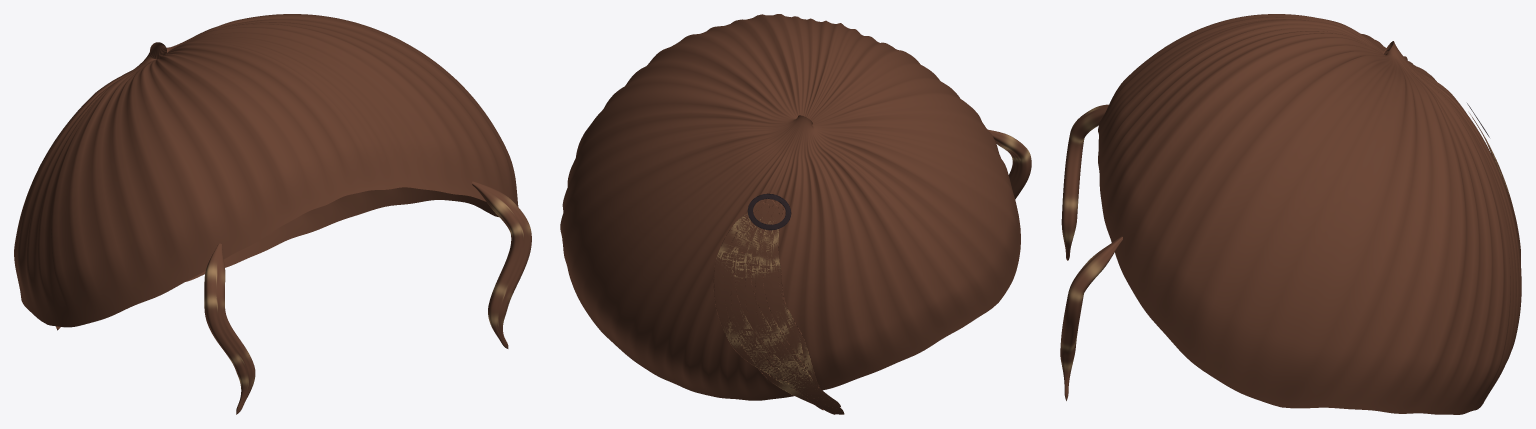
Rendered from Highlights-e7682a1e78ab252-hair.glb.
3 renders of one model, left to right at view 1: azimuth 30°, elevation 25°; view 2: azimuth 150°, elevation 25°; view 3: azimuth 270°, elevation 25°, orthographic. The views are drawn at different scales.
Parts seen in each view (by area): view 1: 226 hair / Hair / crisp pulled roots220, 226 hair / Hair / sculpted front locks222; view 2: 226 hair / Hair / crisp pulled roots220, 226 hair / Hair / chestnut212 0, 226 hair / Hair / chestnut212 1, 226 hair / Hair / chestnut212 2, 226 hair / Hair / sculpted front locks222, 226 hair / Hair / fitted tie214; view 3: 226 hair / Hair / crisp pulled roots220, 226 hair / Hair / sculpted front locks222.
Part boxes in pixels (x1=…): 226 hair / Hair / crisp pulled roots220: x1=14, y1=14, x2=518, y2=327; 226 hair / Hair / sculpted front locks222: x1=204, y1=181, x2=531, y2=414; 226 hair / Hair / crisp pulled roots220: x1=560, y1=14, x2=1020, y2=400; 226 hair / Hair / chestnut212 0: x1=713, y1=201, x2=835, y2=414; 226 hair / Hair / chestnut212 1: x1=724, y1=202, x2=840, y2=410; 226 hair / Hair / chestnut212 2: x1=730, y1=199, x2=844, y2=414; 226 hair / Hair / sculpted front locks222: x1=988, y1=129, x2=1031, y2=199; 226 hair / Hair / fitted tie214: x1=747, y1=193, x2=791, y2=230; 226 hair / Hair / crisp pulled roots220: x1=1098, y1=14, x2=1521, y2=414; 226 hair / Hair / sculpted front locks222: x1=1060, y1=104, x2=1122, y2=400.
Size of the model in its own units: 0.9675 by 0.6669 by 0.8068.
Materials: 6 (5 with a texture image).
